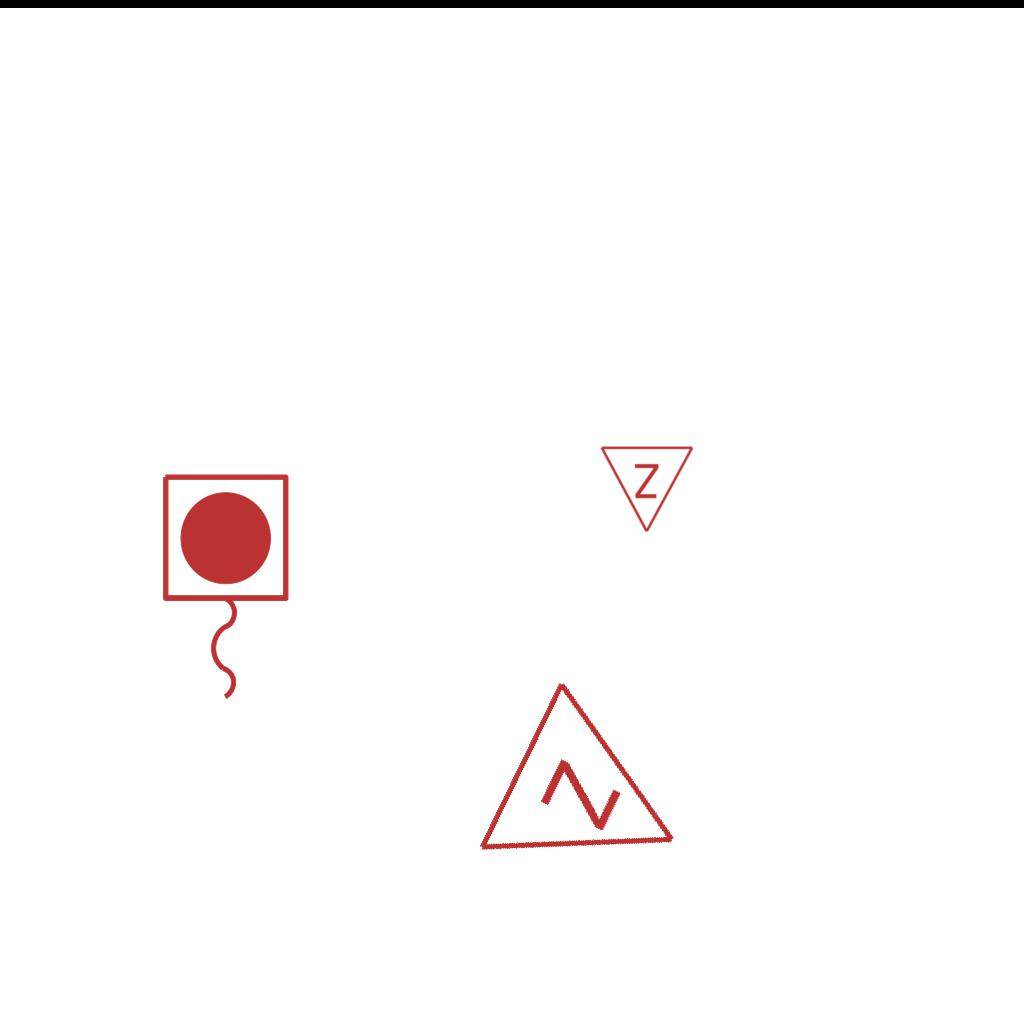Zimmersignalleuchte: (464, 668, 730, 932), (599, 439, 697, 539)
Zugtaster: (152, 466, 296, 710)
